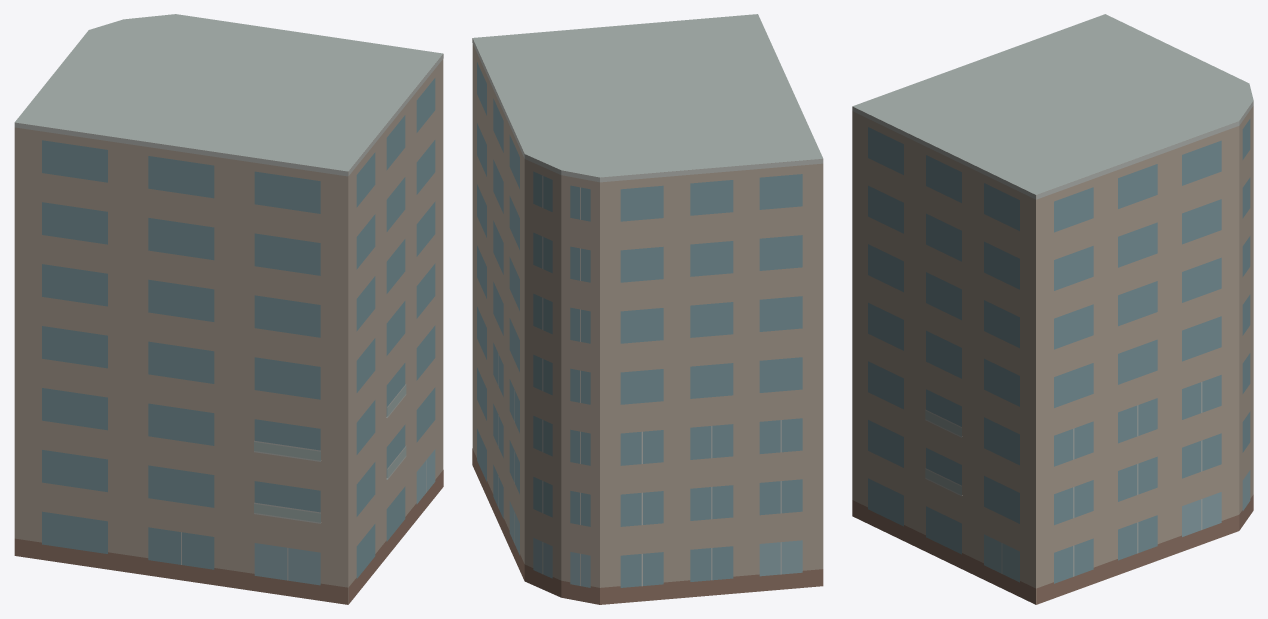
Rendered from survey-upis-32724331.glb.
3 views of the same model, side by side, from view 1: azimuth 30°, elevation 25°; view 2: azimuth 150°, elevation 25°; view 3: azimuth 270°, elevation 25° (orthographic). The views are drawn at different scales.
Parts seen in each view (by area): view 1: survey-upis-32724331.tmp; view 2: survey-upis-32724331.tmp; view 3: survey-upis-32724331.tmp.
Boxes of the visible parts, box(x1,y1,x2,y2) form: survey-upis-32724331.tmp: box(14, 14, 443, 604); survey-upis-32724331.tmp: box(472, 14, 823, 604); survey-upis-32724331.tmp: box(852, 14, 1253, 604).
Bounding box in the file's own units: 20.28 × 21.4 × 19.
